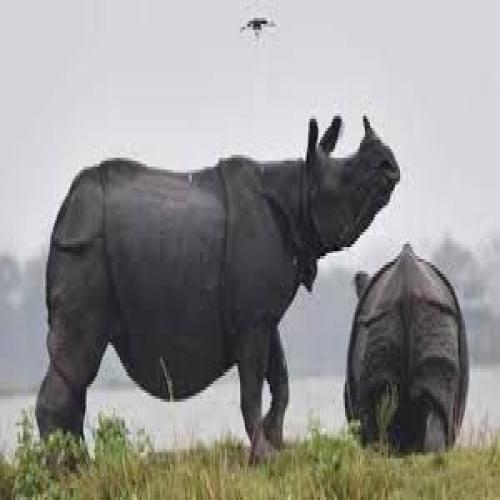rhino-endangered: (36, 114, 403, 456), (342, 242, 470, 451)
